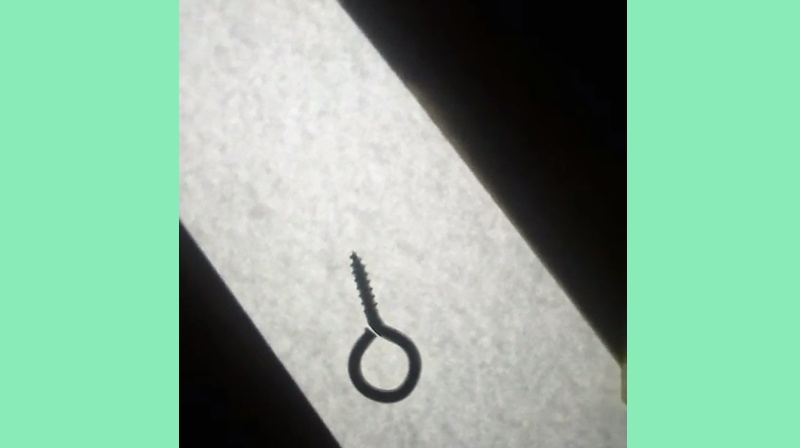O001: (345, 248, 425, 406)
